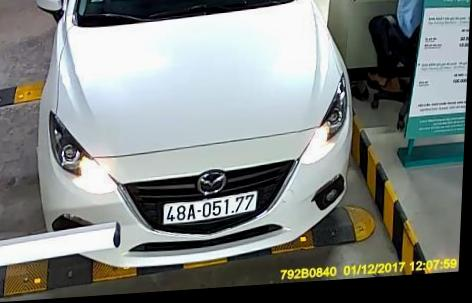License_Plate: (161, 188, 259, 223)
